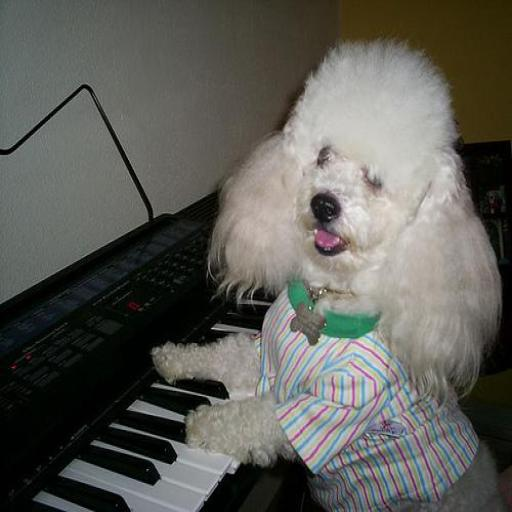dog_face: (213, 38, 485, 301)
